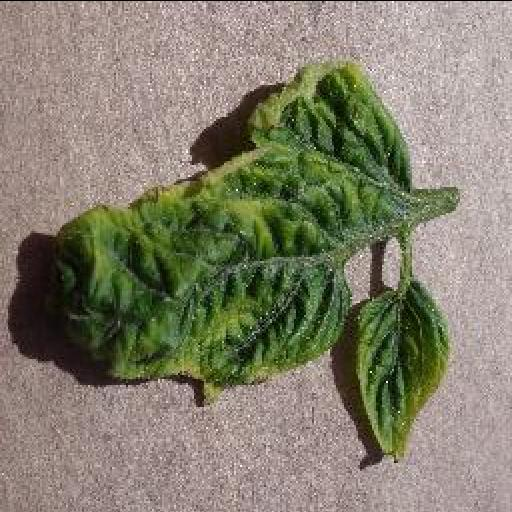disease_tomato: (52, 64, 410, 402), (354, 286, 448, 460)
